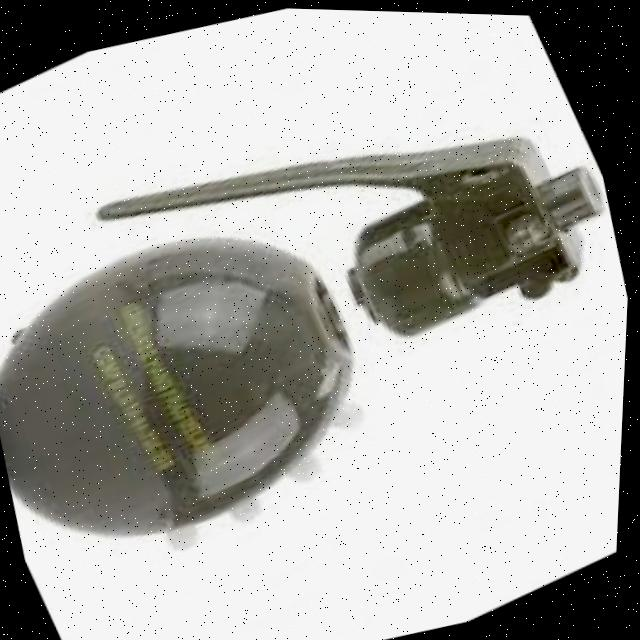grenade: (0, 0, 640, 627)
